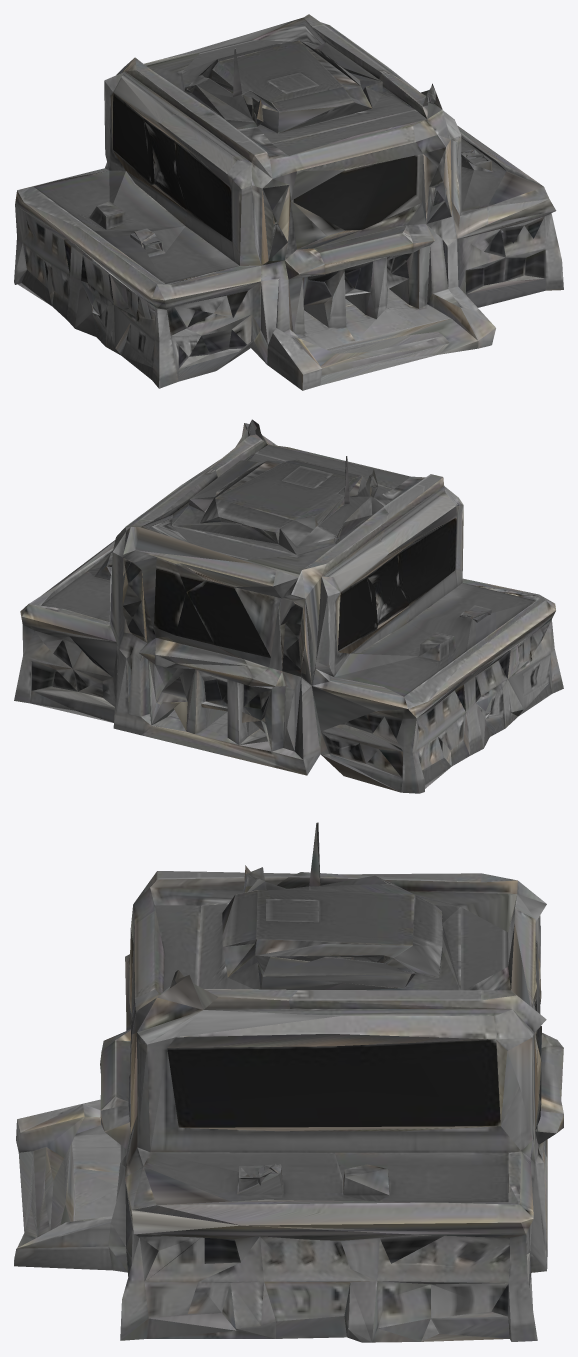
Rendered from imperial_propaganda_bureau_lod2.glb.
The picture shows the model from 3 angles, top to bottom: view 1: azimuth 30°, elevation 25°; view 2: azimuth 150°, elevation 25°; view 3: azimuth 270°, elevation 25°; orthographic projection. The views are drawn at different scales.
Parts seen in each view (by area): view 1: mesh_node; view 2: mesh_node; view 3: mesh_node.
Part boxes in pixels (x1,y1,x2,y2): mesh_node: [14, 14, 563, 390]; mesh_node: [14, 419, 563, 793]; mesh_node: [14, 822, 563, 1342].
Bounding box in the file's own units: 25.91 × 15.24 × 21.95.
1 material, 1 textured.
